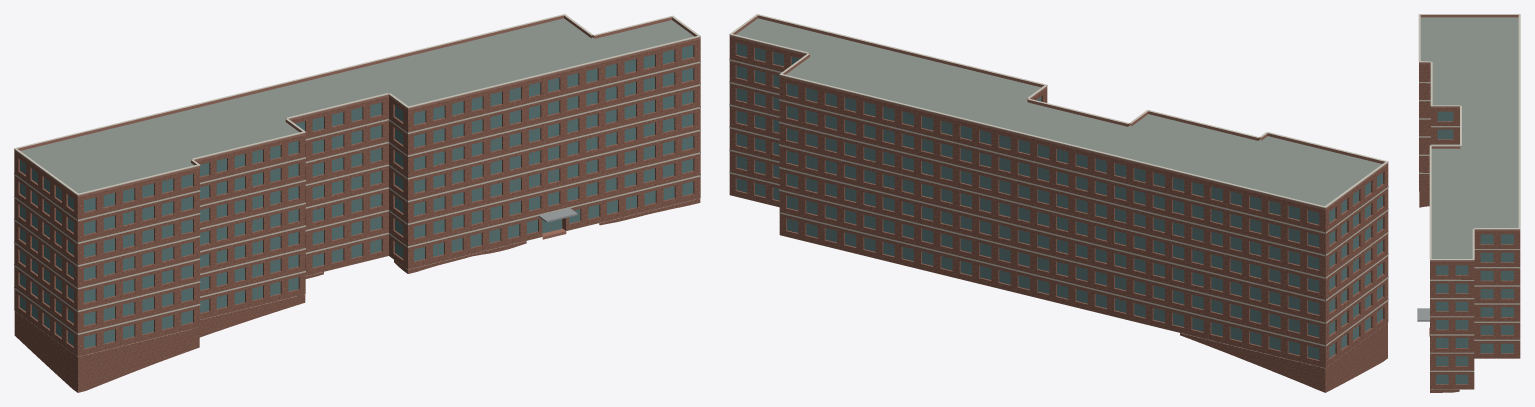
3 views of the same model, side by side, from view 1: azimuth 30°, elevation 25°; view 2: azimuth 150°, elevation 25°; view 3: azimuth 270°, elevation 25° (orthographic). The views are drawn at different scales.
Parts seen in each view (by area): view 1: industry__wall, industry__glass, industry__roof, industry__trim, industry__foundationSkirt, industry__frame, industry__parapet; view 2: industry__wall, industry__glass, industry__roof, industry__trim, industry__frame, industry__parapet, industry__foundationSkirt; view 3: industry__roof, industry__wall, industry__glass, industry__trim, industry__frame, industry__parapet, industry__foundationSkirt, industry__canopy.
Part boxes in pixels (<box>): industry__wall: <box>14,39,700,356</box>; industry__glass: <box>20,45,693,348</box>; industry__roof: <box>21,18,697,355</box>; industry__trim: <box>14,14,700,334</box>; industry__foundationSkirt: <box>14,198,700,392</box>; industry__frame: <box>19,46,693,347</box>; industry__parapet: <box>14,15,700,197</box>; industry__wall: <box>729,37,1388,368</box>; industry__glass: <box>736,43,1382,359</box>; industry__roof: <box>732,18,1384,368</box>; industry__trim: <box>729,14,1388,346</box>; industry__frame: <box>736,44,1382,358</box>; industry__parapet: <box>729,15,1388,210</box>; industry__foundationSkirt: <box>1180,323,1387,392</box>; industry__roof: <box>1420,17,1518,389</box>; industry__wall: <box>1419,64,1520,389</box>; industry__glass: <box>1436,111,1513,384</box>; industry__trim: <box>1418,14,1520,371</box>; industry__frame: <box>1436,112,1513,384</box>; industry__parapet: <box>1419,15,1520,261</box>; industry__foundationSkirt: <box>1419,191,1459,392</box>; industry__canopy: <box>1417,308,1429,321</box>.
Size of the model in its own units: 102 by 30.52 by 18.03.
Materials: 10 (2 with a texture image).
